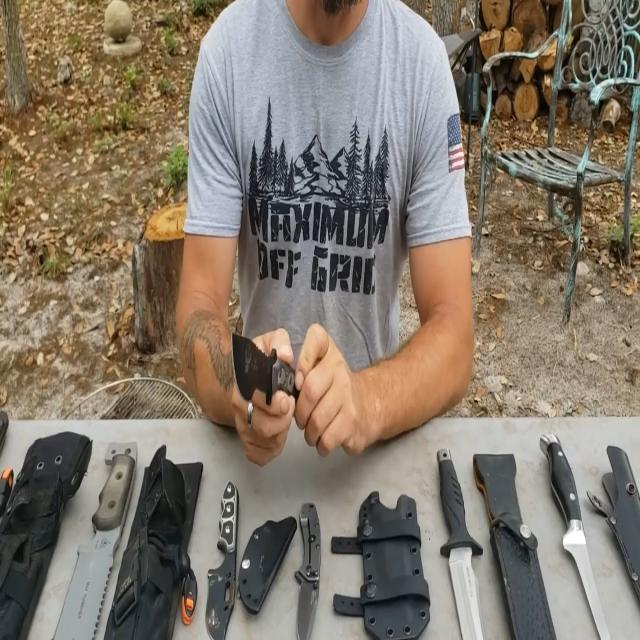knife: (531, 423, 632, 639), (53, 427, 147, 639), (418, 432, 501, 639), (282, 467, 342, 639), (201, 474, 261, 639), (216, 332, 323, 413)
